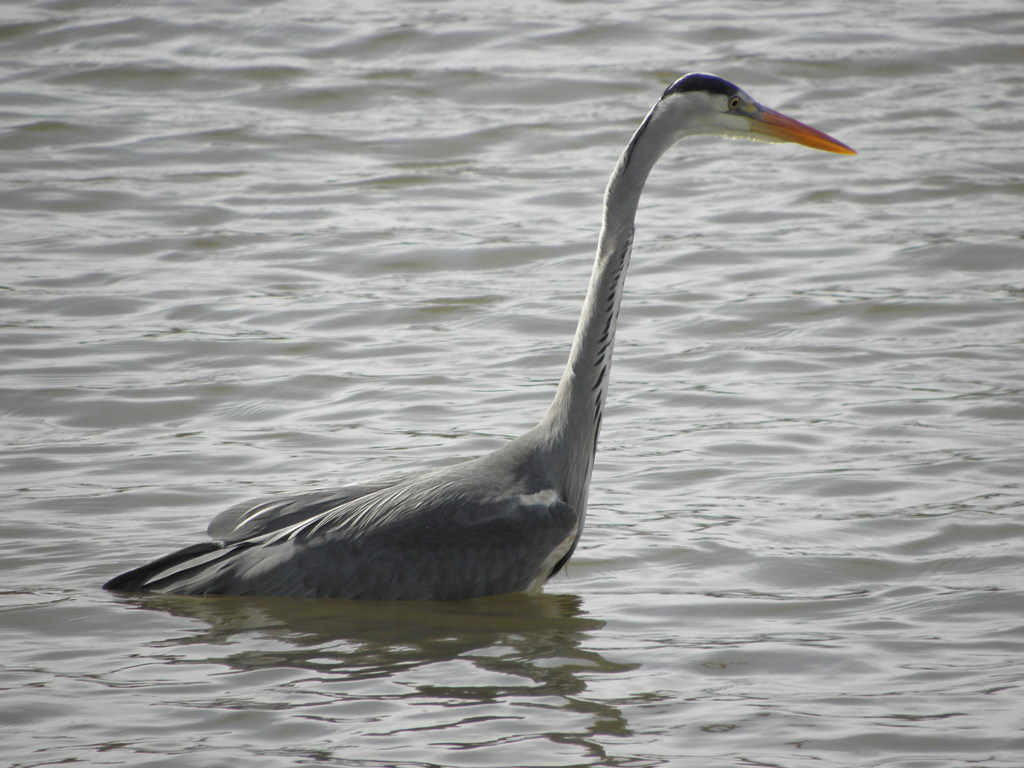Bird: (101, 72, 859, 602)
